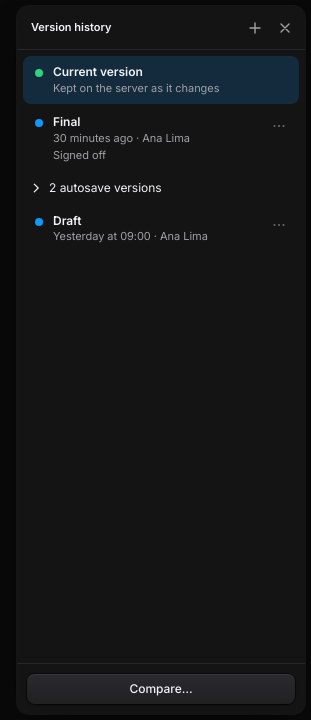
Scenario: the version history panel › lists named versions on their own and groups autosaves, expandable
The image size is (311, 720).
Expected: the button "Final 30 minutes ago · Ana Lima Signed off" is shown, 23,106 -> 299,172
Expected: the text "Signed off" is shown, 53,148 -> 106,162
Click the button "2 autosave versions" at (161, 188), box 23,174 -> 299,203
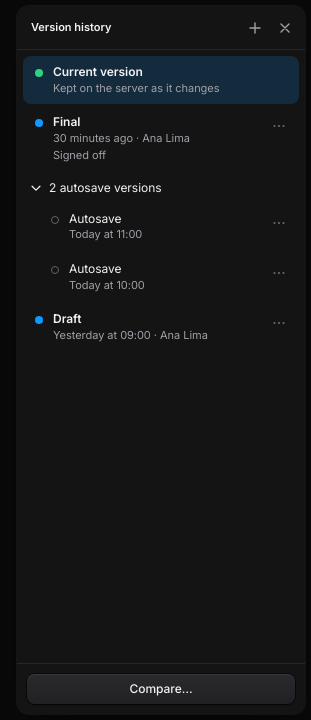
Result: the number of buttons "Autosave Today at 11:00" is 2 at 23,203 -> 299,251; 23,253 -> 299,301
